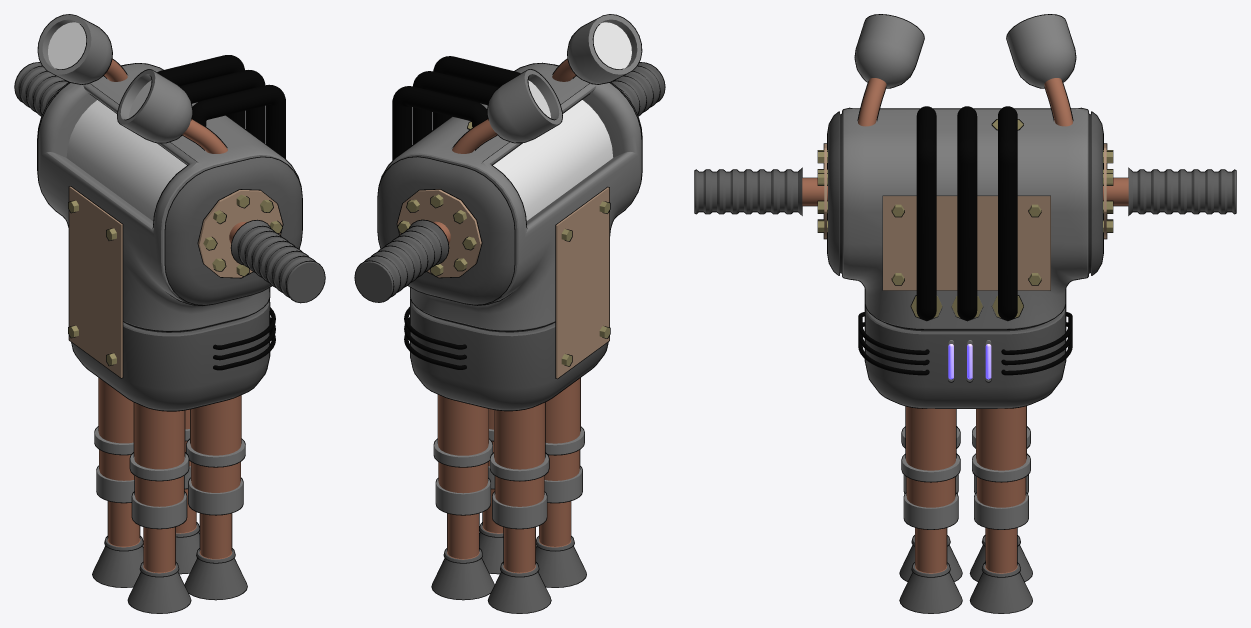
The model's file is Creators.fbx.
3 views of the same model, side by side, from view 1: azimuth 30°, elevation 25°; view 2: azimuth 150°, elevation 25°; view 3: azimuth 270°, elevation 25° (orthographic).
Visible parts, largest first — view 1: Cube; view 2: Cube; view 3: Cube.
Boxes of the visible parts, left/top/right/bottom form: Cube: left=14, top=14, right=325, bottom=613; Cube: left=354, top=14, right=665, bottom=613; Cube: left=694, top=14, right=1236, bottom=613.
Bounding box in the file's own units: 130 × 374 × 337.
